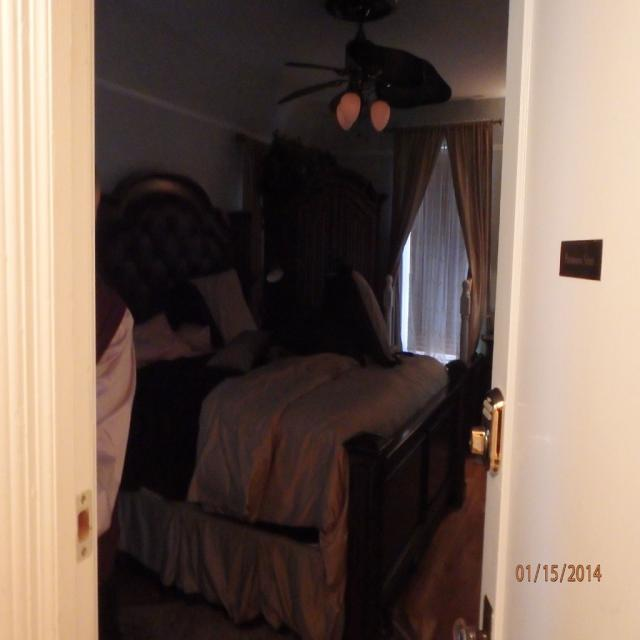Bulb: (274, 5, 434, 134)
